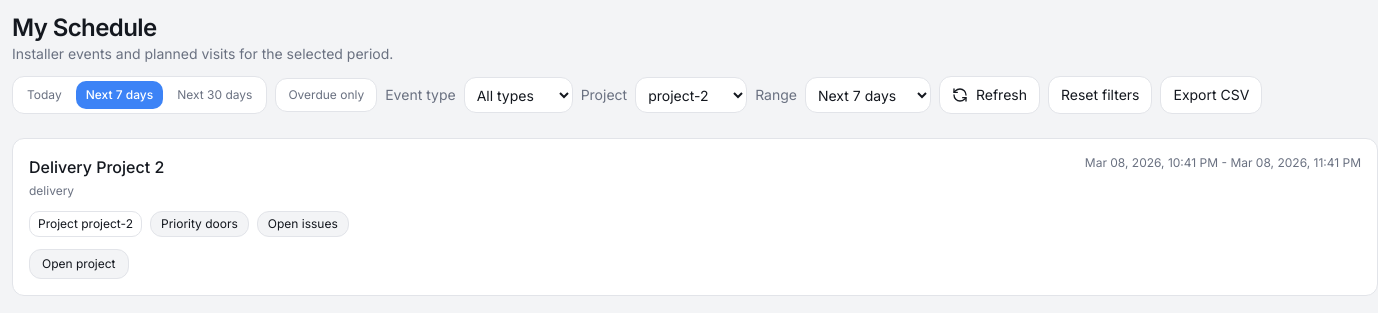
Test: InstallerSchedulePage › applies project query filter and event-type filter
Check: the text "Delivery Project 2" is shown, box [29,155,164,179]
Click the button "Overdue only": click(326, 95) [275,78,377,112]
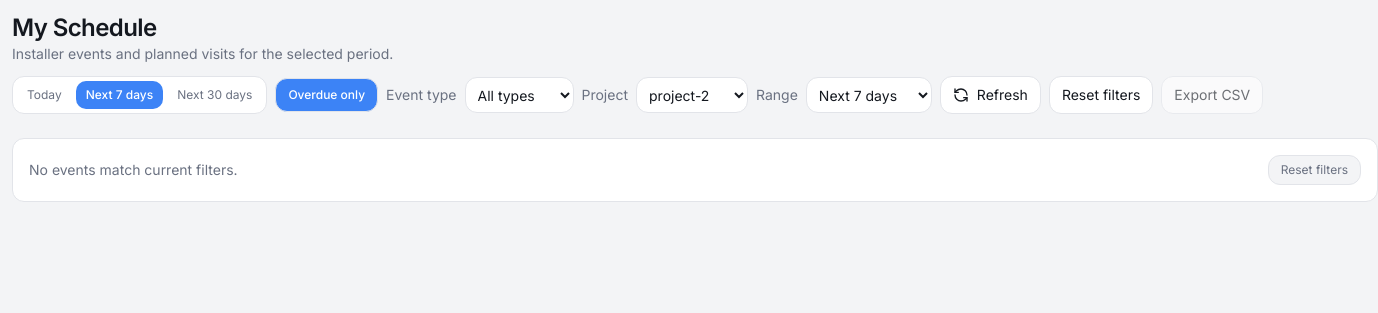
Check: the text "No events match current filters." is shown, box [29,160,238,180]
